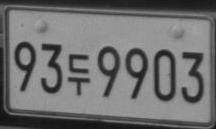0: (152, 48, 177, 102)
3: (179, 51, 205, 103), (39, 43, 63, 94)
9: (96, 45, 121, 98), (124, 46, 149, 99), (13, 40, 36, 91)
두: (67, 53, 91, 95)
